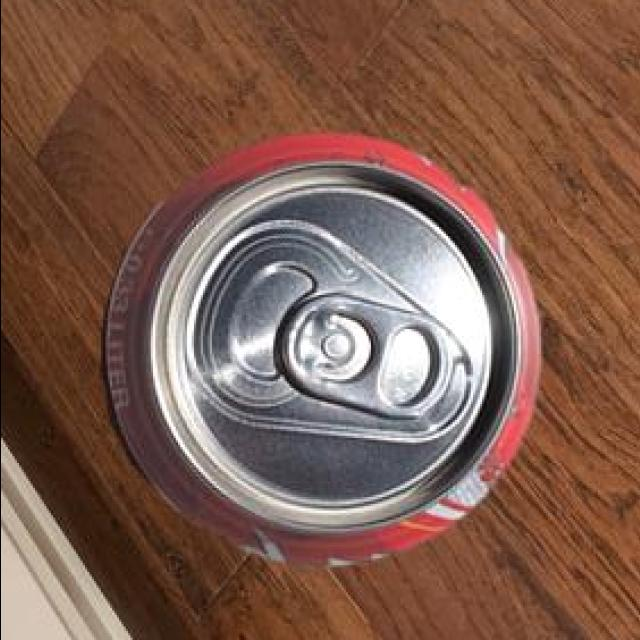logam: (96, 137, 537, 569)
